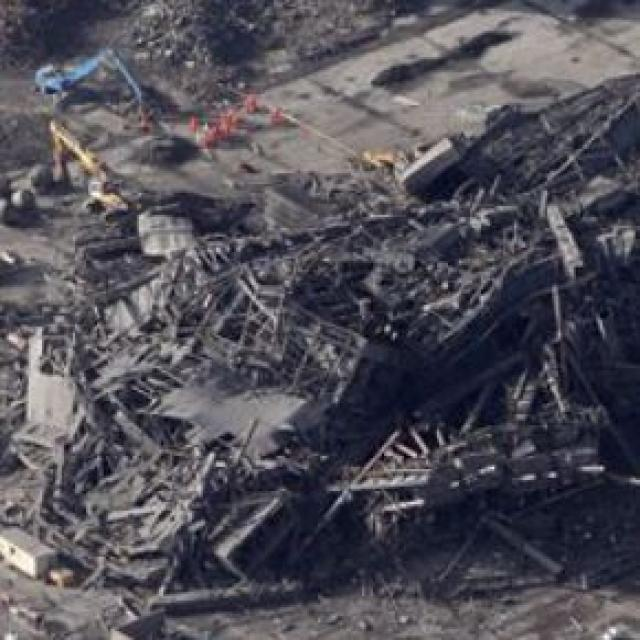collapsed_building: (66, 217, 638, 572)
